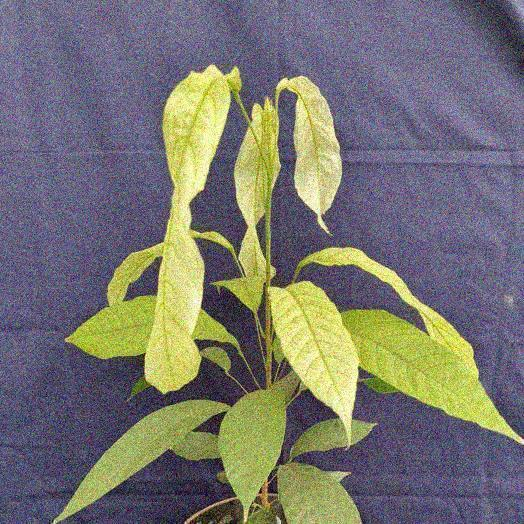Iron: (145, 65, 229, 392), (292, 248, 478, 377), (341, 311, 519, 440), (53, 400, 228, 523), (270, 282, 358, 435), (277, 77, 341, 233), (218, 390, 285, 518), (66, 296, 155, 358), (278, 463, 361, 523), (235, 129, 266, 274), (288, 418, 376, 460), (108, 243, 162, 304), (213, 277, 263, 313), (193, 310, 239, 349), (171, 432, 219, 459), (252, 104, 273, 138)
